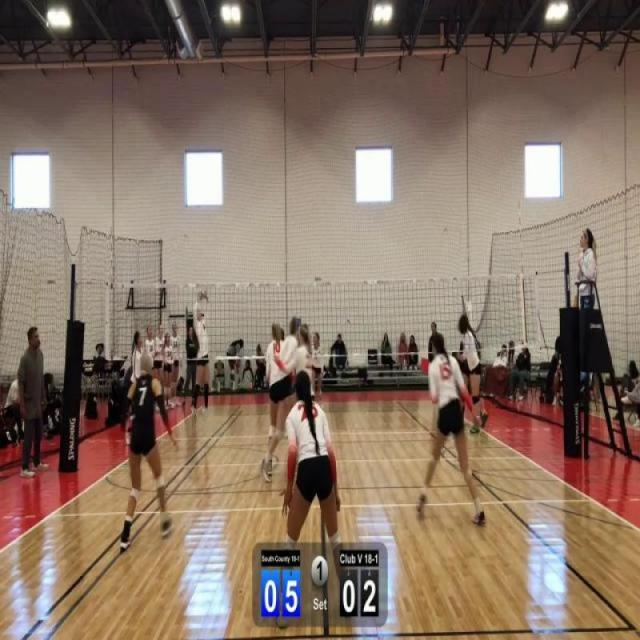volleyball: (198, 288, 206, 300)
